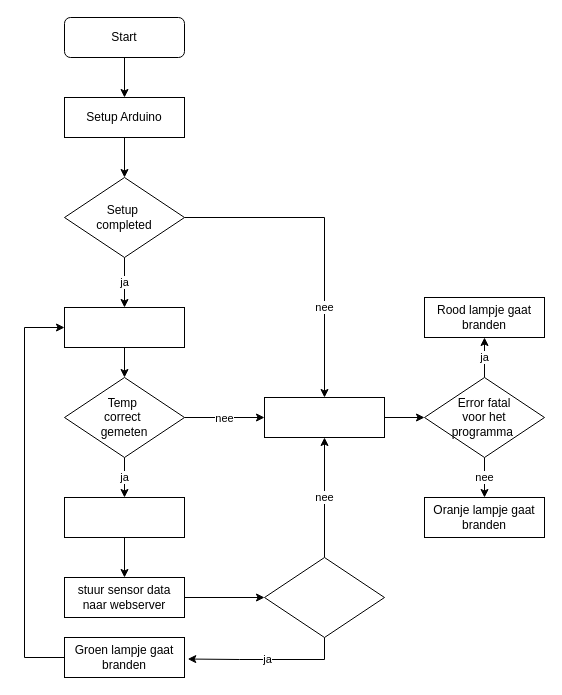
The diagram is 562 pixels wide and 695 high, and some of its shapes have lost their labels. The shapes that lost their labels are listed below. From the top down, each one's centre as x and y in pixels, then its label:
point 124,327: Meet temp
point 324,417: Geef Error melding
point 124,517: display temp
point 324,597: data correct gestuurd
